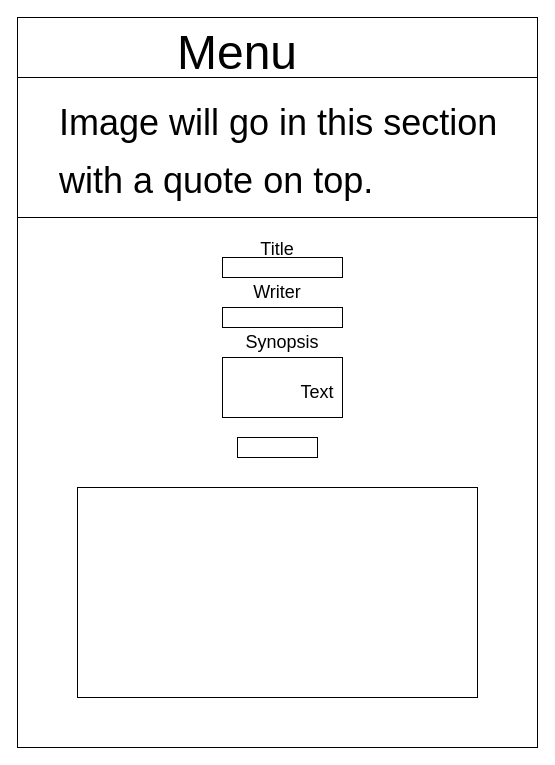
Some shapes in this 555 by 765 pixel diagram are drawn without their labels. The centre of each missing label's shape, as x and y in pixels:
"Data listed here." belongs at point (277, 592).
"Submit" belongs at point (277, 447).
